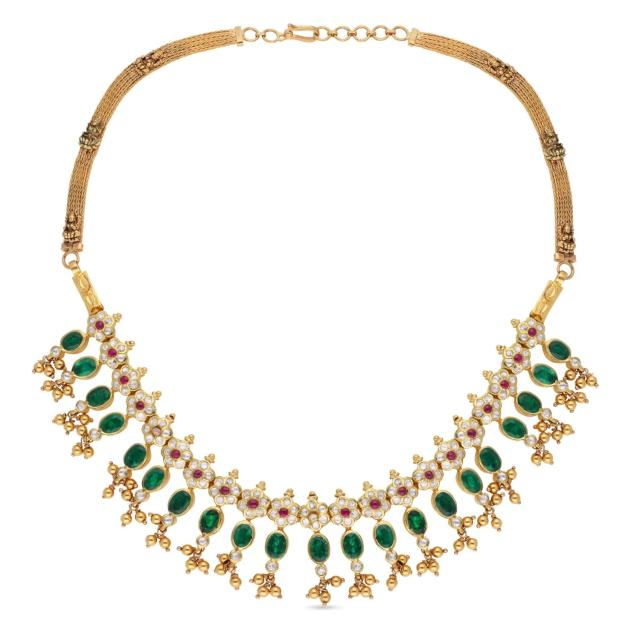missing gem: (309, 512, 318, 520), (153, 427, 161, 435)
